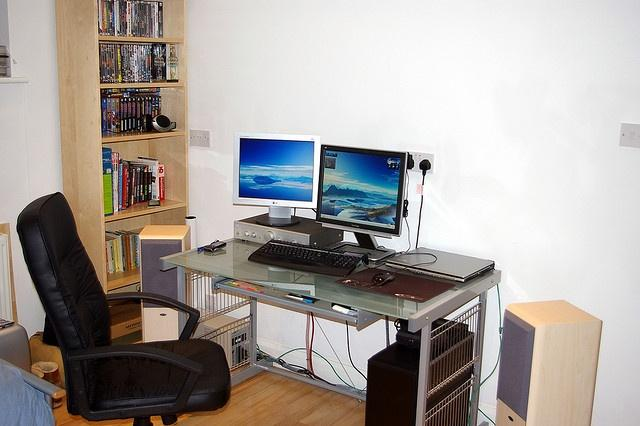AIO PC-Monitor-TV: (313, 143, 409, 239), (231, 132, 322, 225)
Kursi: (15, 190, 231, 425)
Rak: (53, 0, 189, 291)
